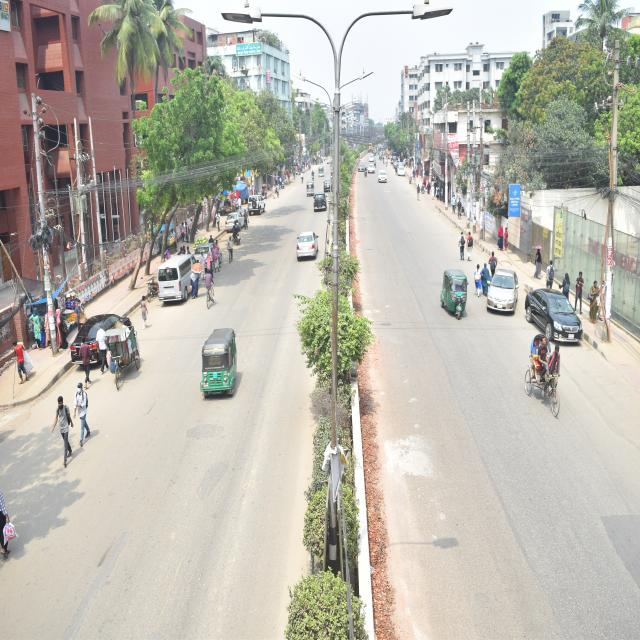car: (60, 297, 142, 384), (520, 280, 589, 356), (485, 255, 519, 323), (290, 224, 324, 274), (215, 202, 255, 239), (237, 177, 270, 221), (193, 234, 221, 278), (310, 189, 328, 216), (378, 164, 392, 191), (366, 161, 379, 186), (320, 175, 330, 207), (354, 159, 366, 179)
microbus: (156, 245, 212, 304)
